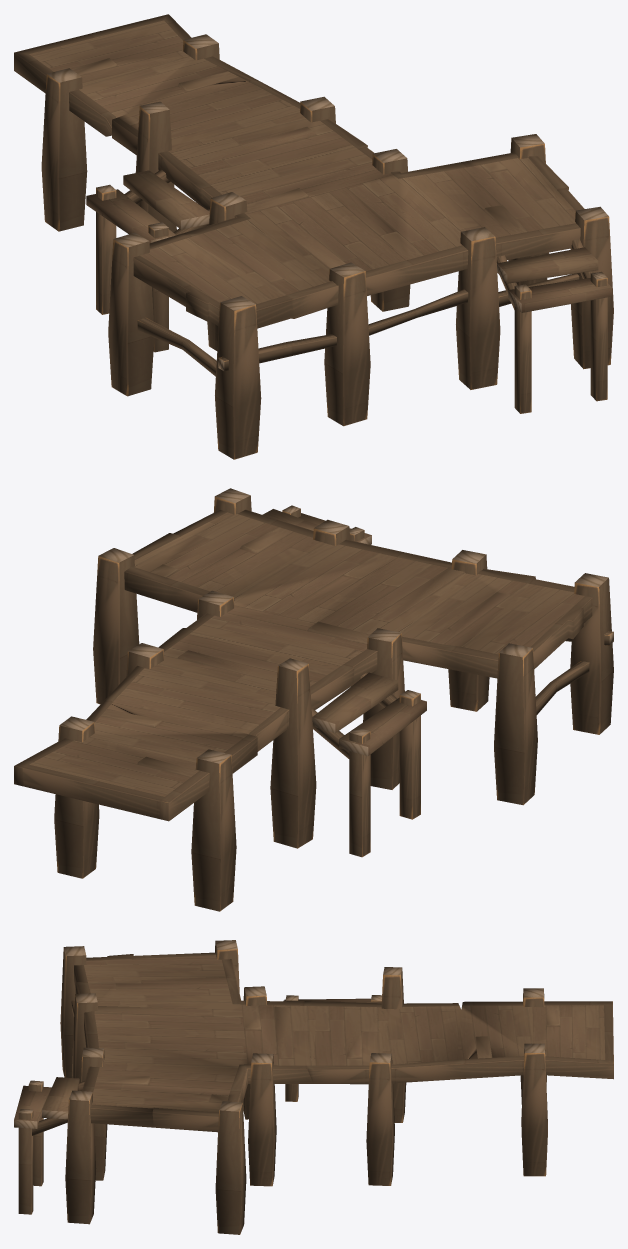
Rendered from hbxz_road_10.FBX.
3 views of the same model, one above another, from view 1: azimuth 30°, elevation 25°; view 2: azimuth 150°, elevation 25°; view 3: azimuth 270°, elevation 25° (orthographic). The views are drawn at different scales.
Visible parts, largest first — view 1: hbxz_road_10; view 2: hbxz_road_10; view 3: hbxz_road_10.
Part boxes in pixels (x1,y1,x2,y2): hbxz_road_10: [14, 14, 613, 459]; hbxz_road_10: [14, 488, 613, 911]; hbxz_road_10: [14, 940, 613, 1234].
Size of the model in its own units: 957 by 385 by 1388.
